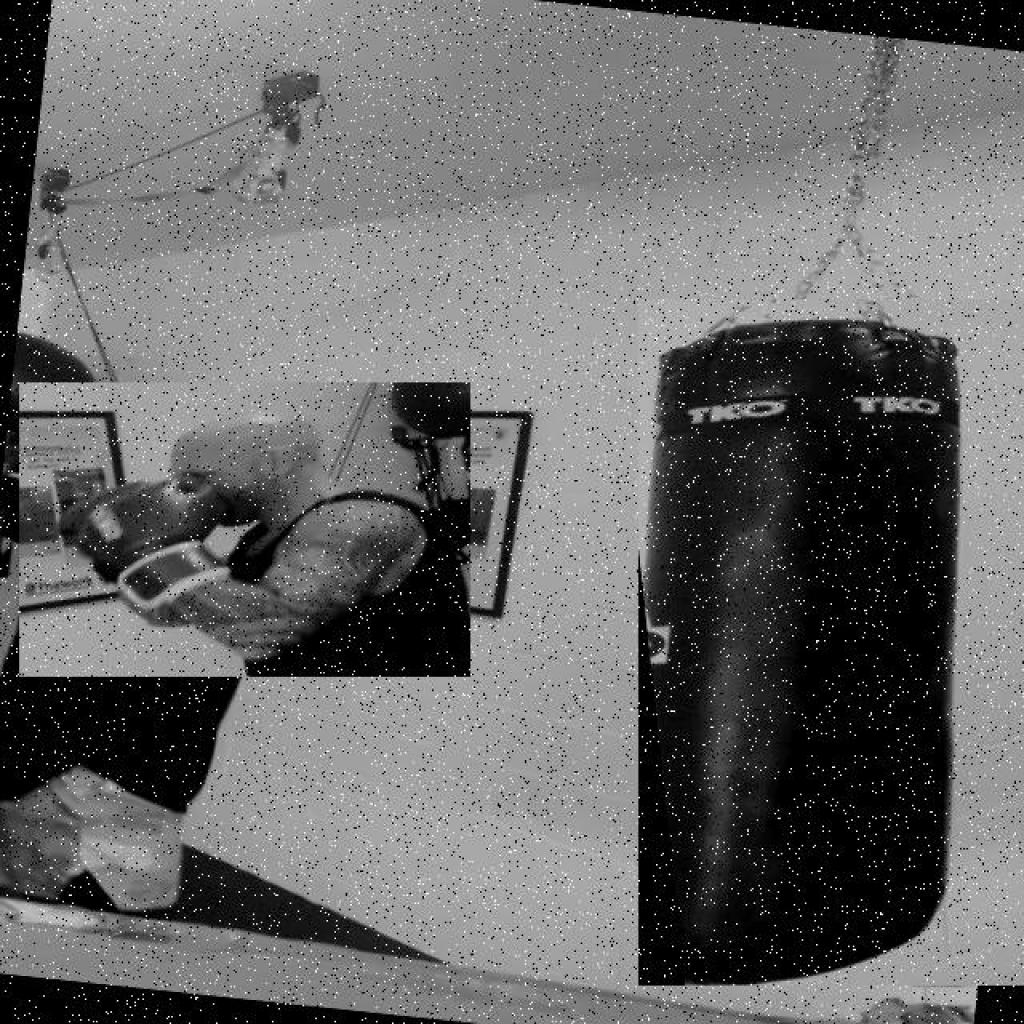bag: (638, 299, 1024, 986)
no punch: (20, 382, 470, 677)
